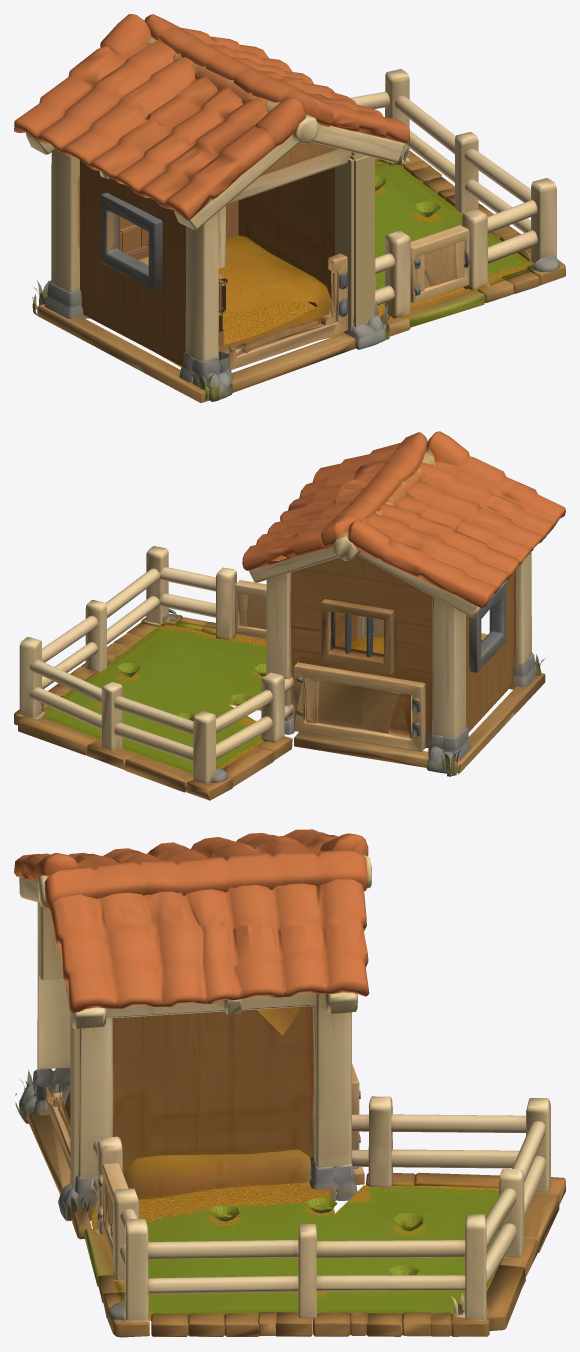
The picture shows the model from 3 angles, top to bottom: view 1: azimuth 30°, elevation 25°; view 2: azimuth 150°, elevation 25°; view 3: azimuth 270°, elevation 25°; orthographic projection. The views are drawn at different scales.
Parts seen in each view (by area): view 1: tripo_node_1ab5f93f-4f39-4ac6-bcbe-408c19fe9d91, 외형 세부; view 2: tripo_node_1ab5f93f-4f39-4ac6-bcbe-408c19fe9d91; view 3: tripo_node_1ab5f93f-4f39-4ac6-bcbe-408c19fe9d91, 외형 세부.
Part boxes in pixels (x1=…): tripo_node_1ab5f93f-4f39-4ac6-bcbe-408c19fe9d91: x1=14, y1=14, x2=565, y2=402; 외형 세부: x1=119, y1=154, x2=374, y2=352; tripo_node_1ab5f93f-4f39-4ac6-bcbe-408c19fe9d91: x1=14, y1=431, x2=565, y2=800; tripo_node_1ab5f93f-4f39-4ac6-bcbe-408c19fe9d91: x1=14, y1=829, x2=565, y2=1337; 외형 세부: x1=46, y1=1017, x2=94, y2=1188.
Bounding box in the file's own units: 8 × 4.41 × 7.01.
2 materials, 1 textured.
